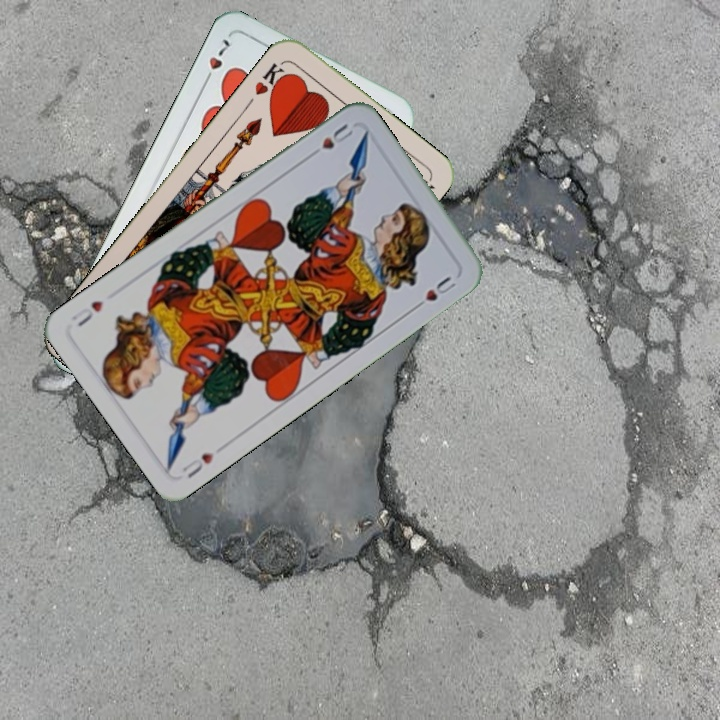H7: (199, 34, 235, 88)
HK: (250, 58, 292, 100)
HU: (305, 120, 356, 161), (178, 448, 217, 481)
